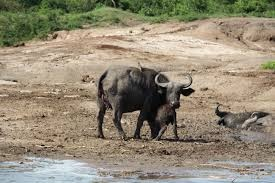buffalo: (94, 60, 196, 143)
